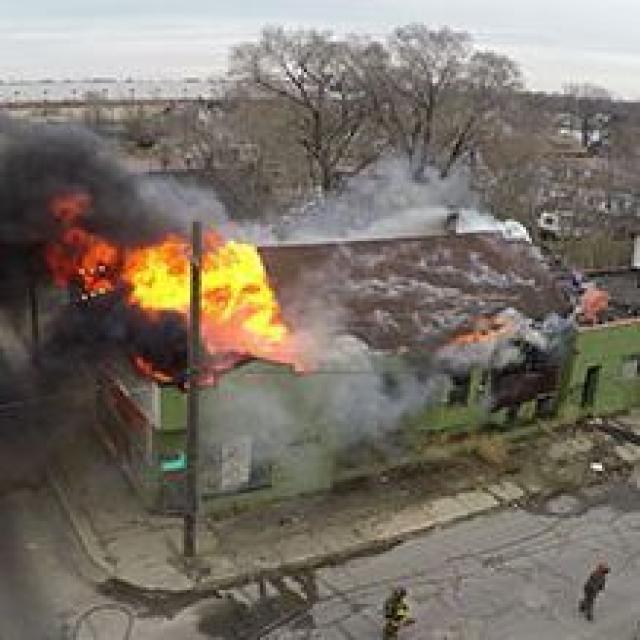Fire: (77, 228, 316, 376)
Smoke: (308, 162, 564, 442), (17, 119, 216, 345)
